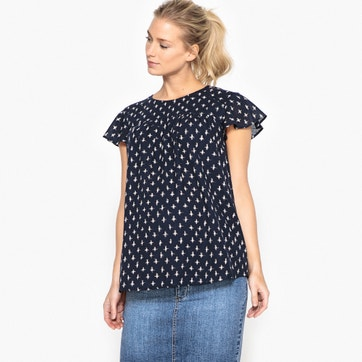C_short blouse: (103, 86, 268, 297)
C_skirt: (124, 288, 245, 362)
